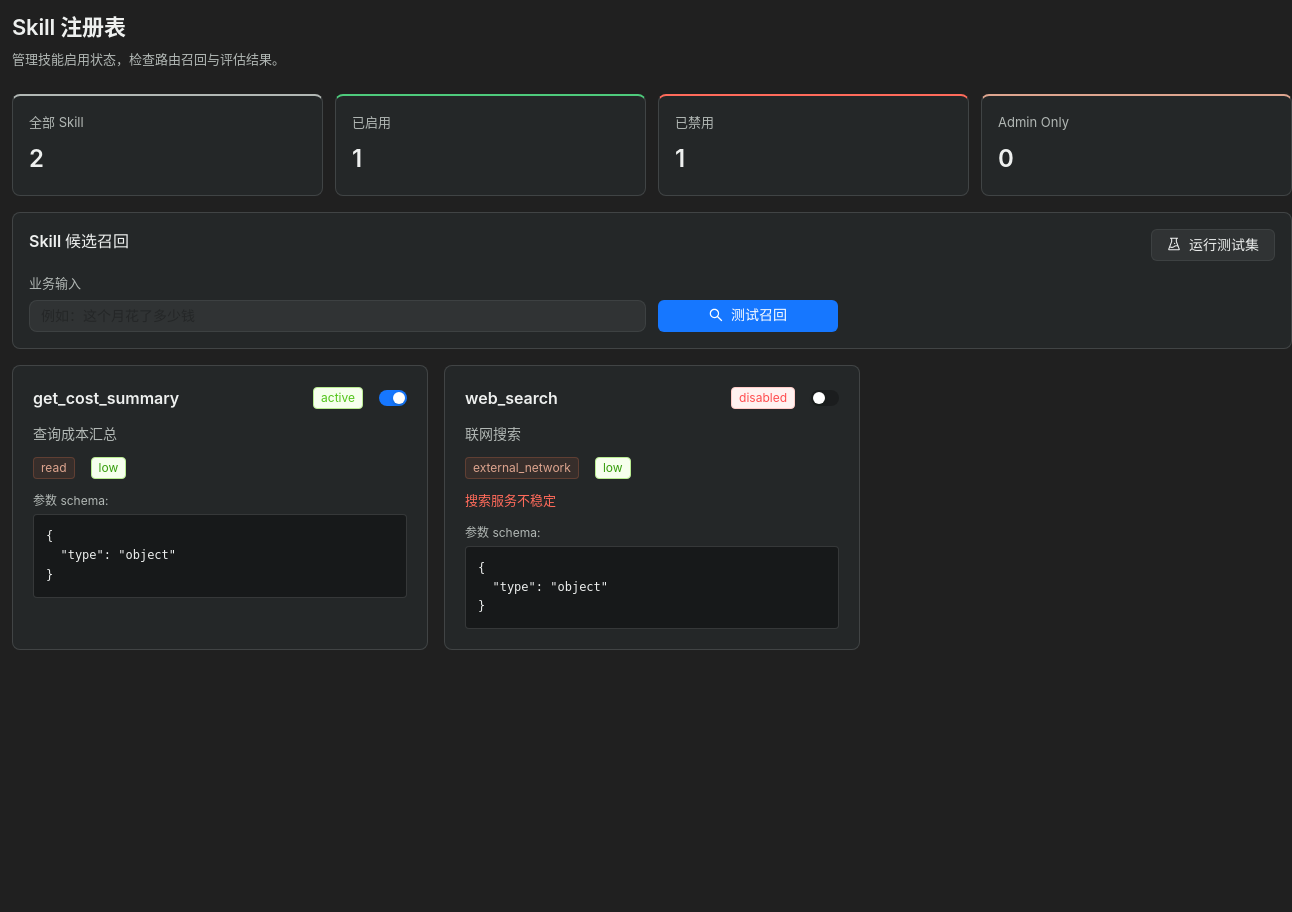
SkillRegistry › 展示 Skill 数量统计并支持禁用 Skill
expect the text "全部 Skill" is shown: met, box [29,114,84,130]
expect the text "2" is shown: met, box [29,144,44,173]
Click the switch named "禁用 get_cost_summary": click(393, 398) [379,390,407,406]
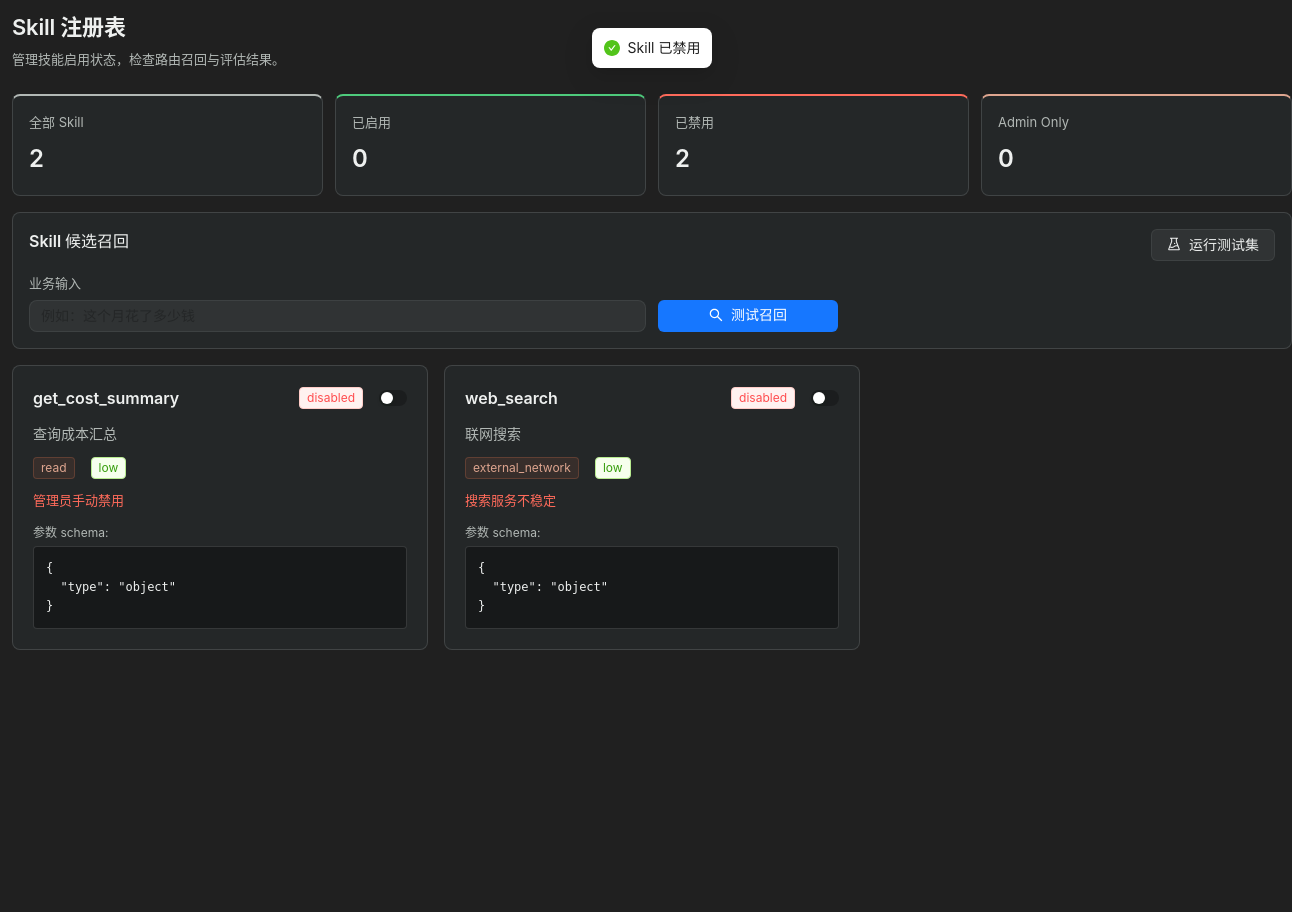
expect the text "管理员手动禁用" is shown: met, box [33,492,124,508]
